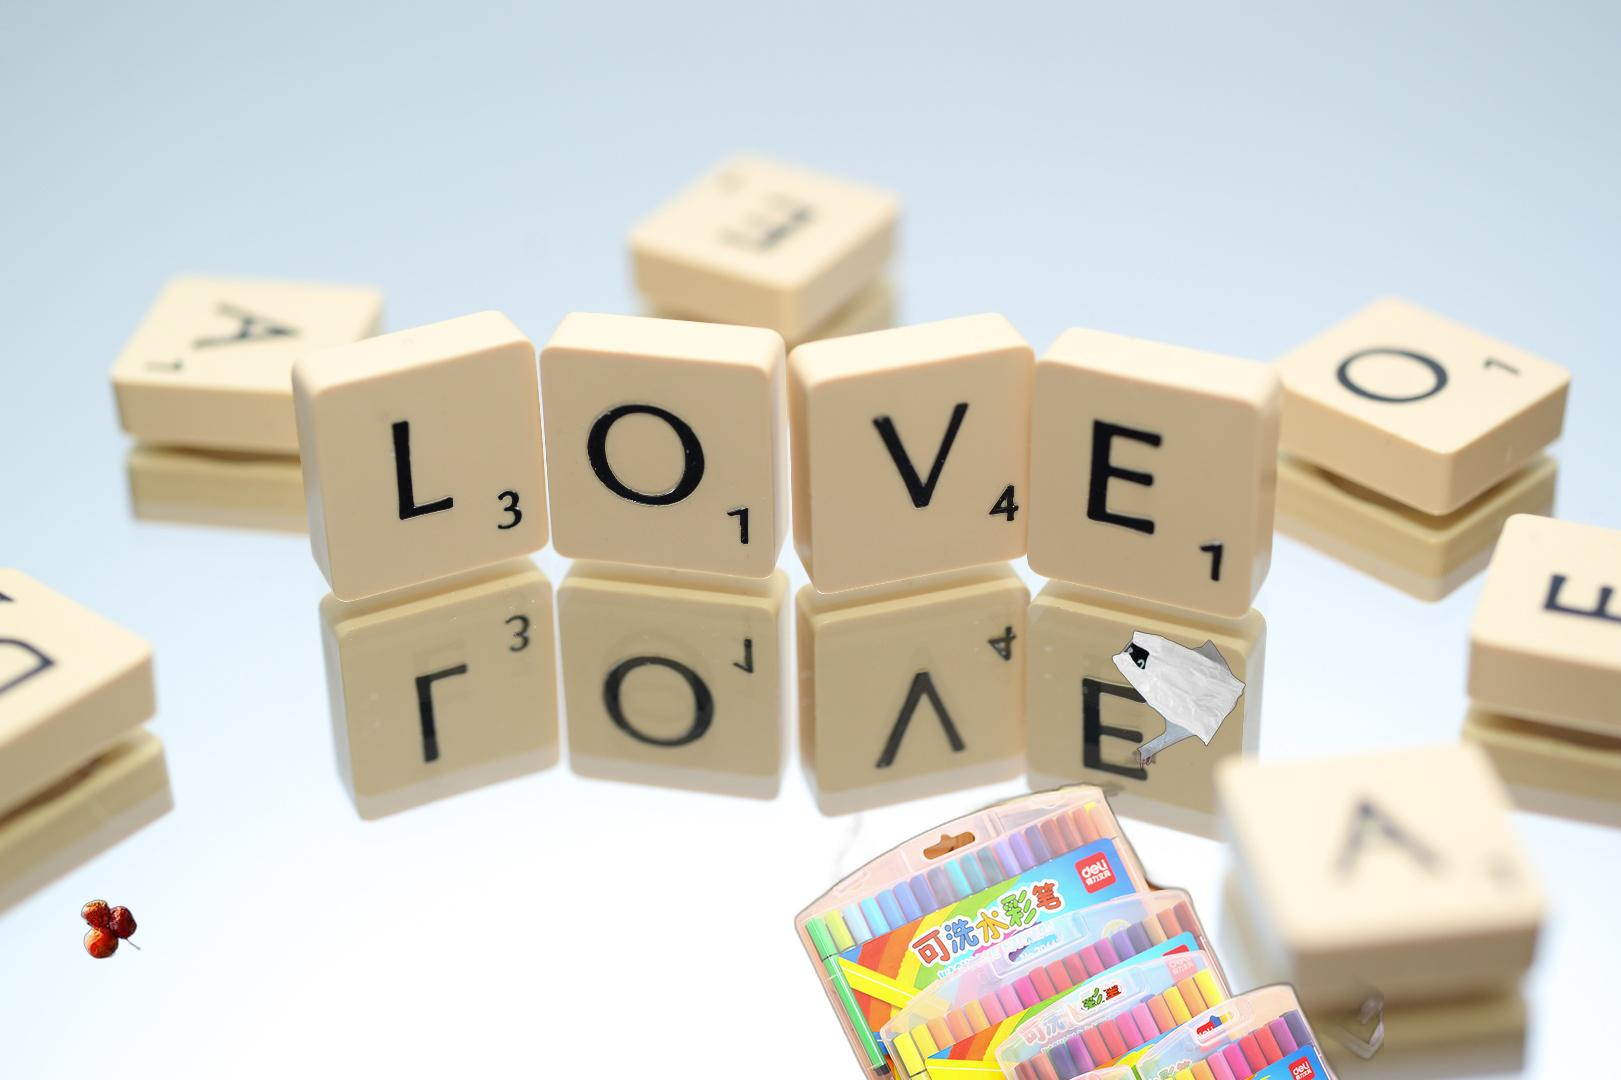biological: (78, 897, 143, 961)
penholder: (785, 776, 1384, 1080)
plastic-bag: (1047, 628, 1249, 787)
